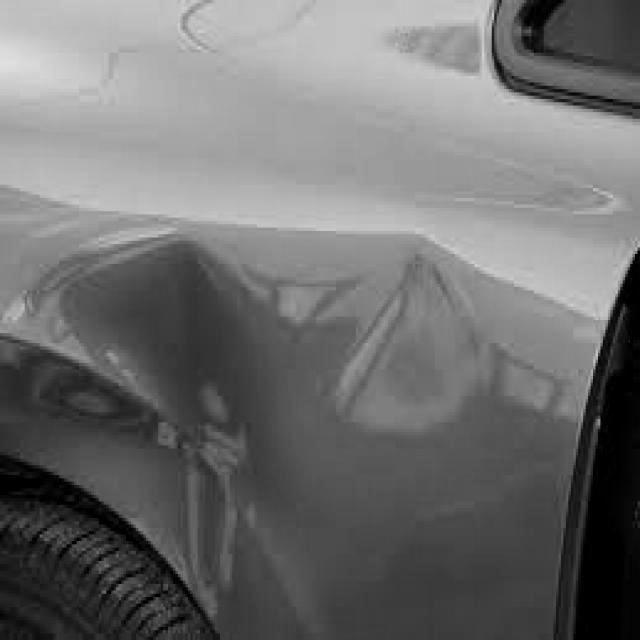quaterpanel-dent: (38, 194, 538, 497)
